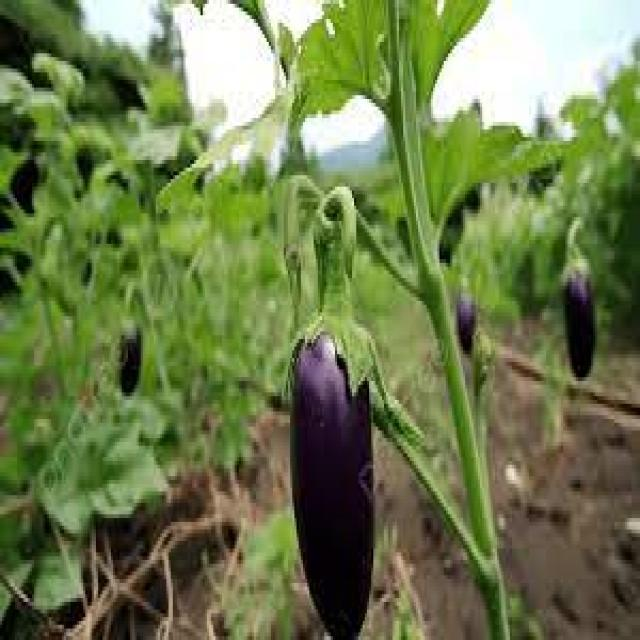Eggplant: (287, 239, 377, 640), (558, 226, 602, 384), (114, 292, 144, 400), (454, 274, 482, 364)
